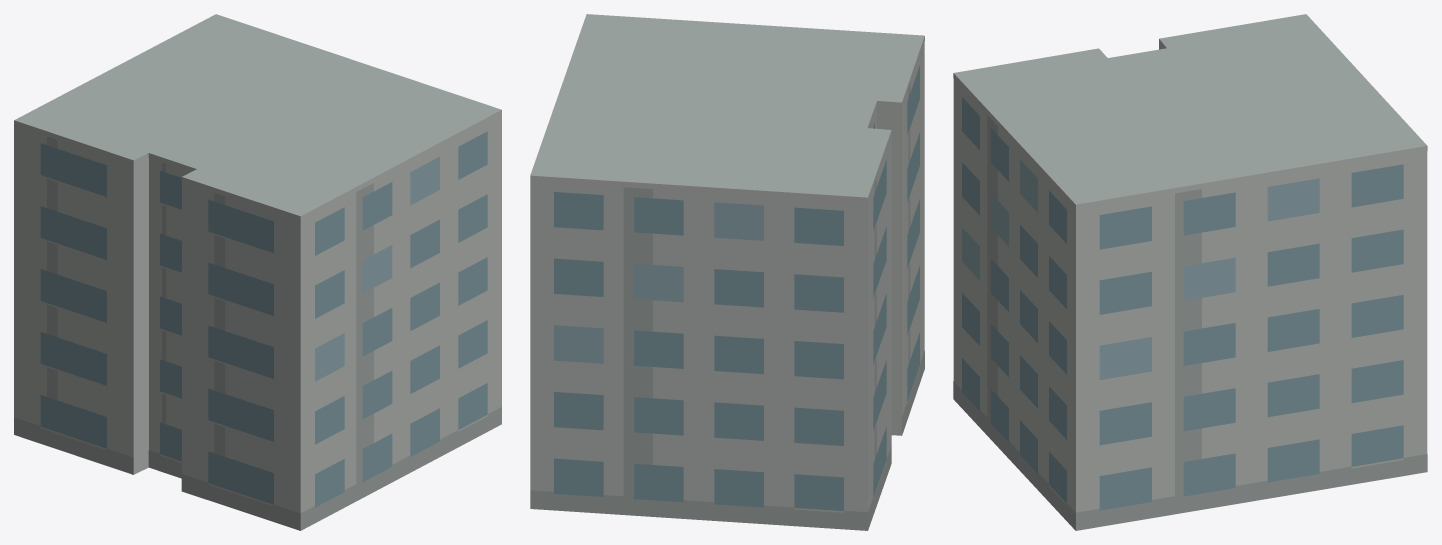
Rendered from survey-upis-33013795.glb.
The picture shows the model from 3 angles, left to right: view 1: azimuth 30°, elevation 25°; view 2: azimuth 150°, elevation 25°; view 3: azimuth 270°, elevation 25°; orthographic projection. The views are drawn at different scales.
Parts seen in each view (by area): view 1: survey-upis-33013795.tmp; view 2: survey-upis-33013795.tmp; view 3: survey-upis-33013795.tmp.
Part boxes in pixels (left/top/right/bottom): survey-upis-33013795.tmp: left=14, top=14, right=501, bottom=530; survey-upis-33013795.tmp: left=530, top=14, right=924, bottom=530; survey-upis-33013795.tmp: left=953, top=14, right=1427, bottom=530.
Size of the model in its own units: 18.56 by 14.8 by 19.5.
